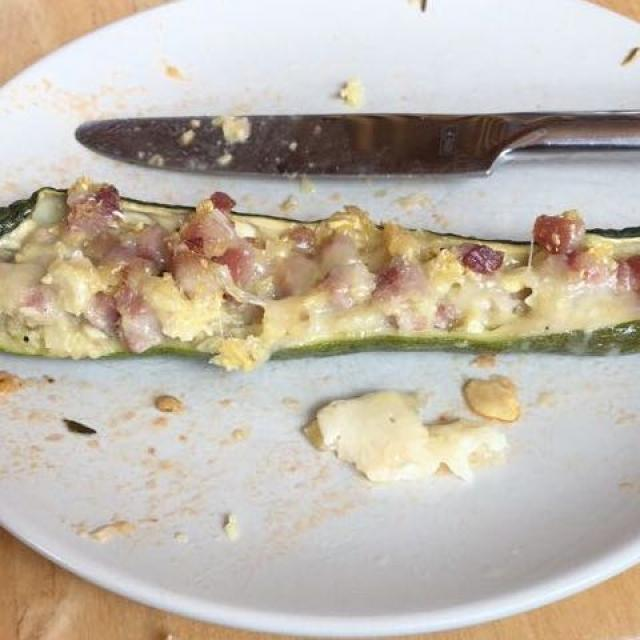zucchini: (1, 189, 629, 366)
